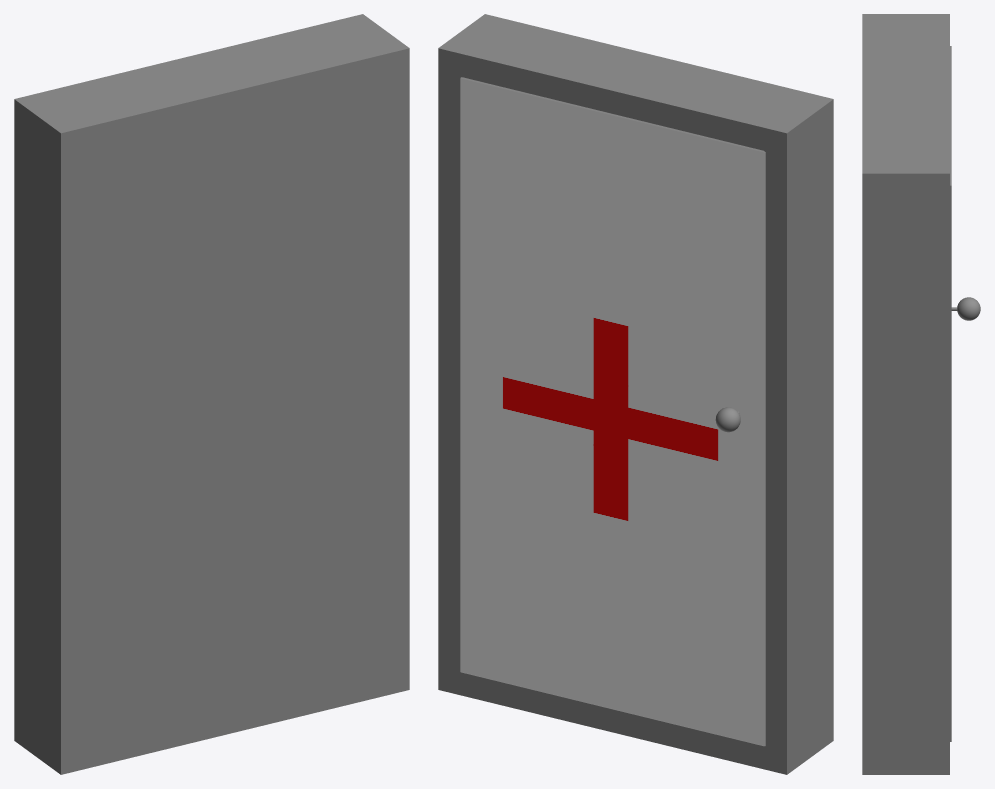
File: MedBox.fbx
3 views of the same model, side by side, from view 1: azimuth 30°, elevation 25°; view 2: azimuth 150°, elevation 25°; view 3: azimuth 270°, elevation 25° (orthographic). The views are drawn at different scales.
Parts seen in each view (by area): view 1: polySurface97; view 2: polySurface96, polySurface97; view 3: polySurface97, polySurface96.
Boxes of the visible parts, left/top/right/bottom form: polySurface97: left=14, top=14, right=409, bottom=774; polySurface96: left=460, top=77, right=765, bottom=745; polySurface97: left=438, top=14, right=833, bottom=774; polySurface97: left=862, top=14, right=949, bottom=774; polySurface96: left=950, top=46, right=980, bottom=741.
Bounding box in the file's own units: 2 × 3.52 × 0.6269.
